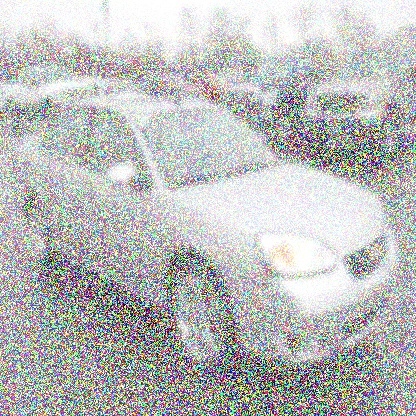Vehicle: (11, 59, 415, 407)
